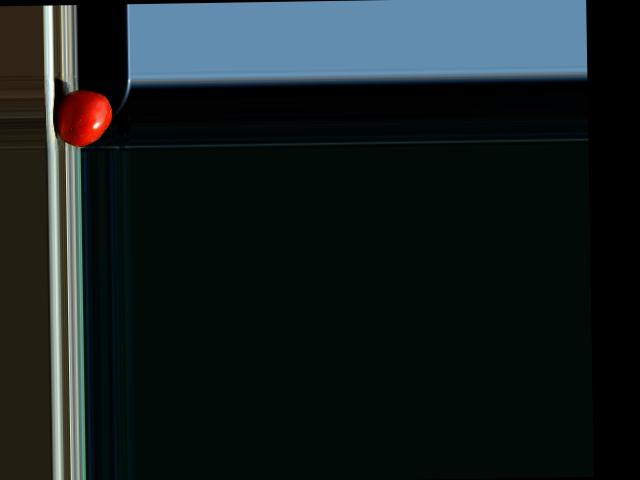tomato: (56, 89, 113, 146)
